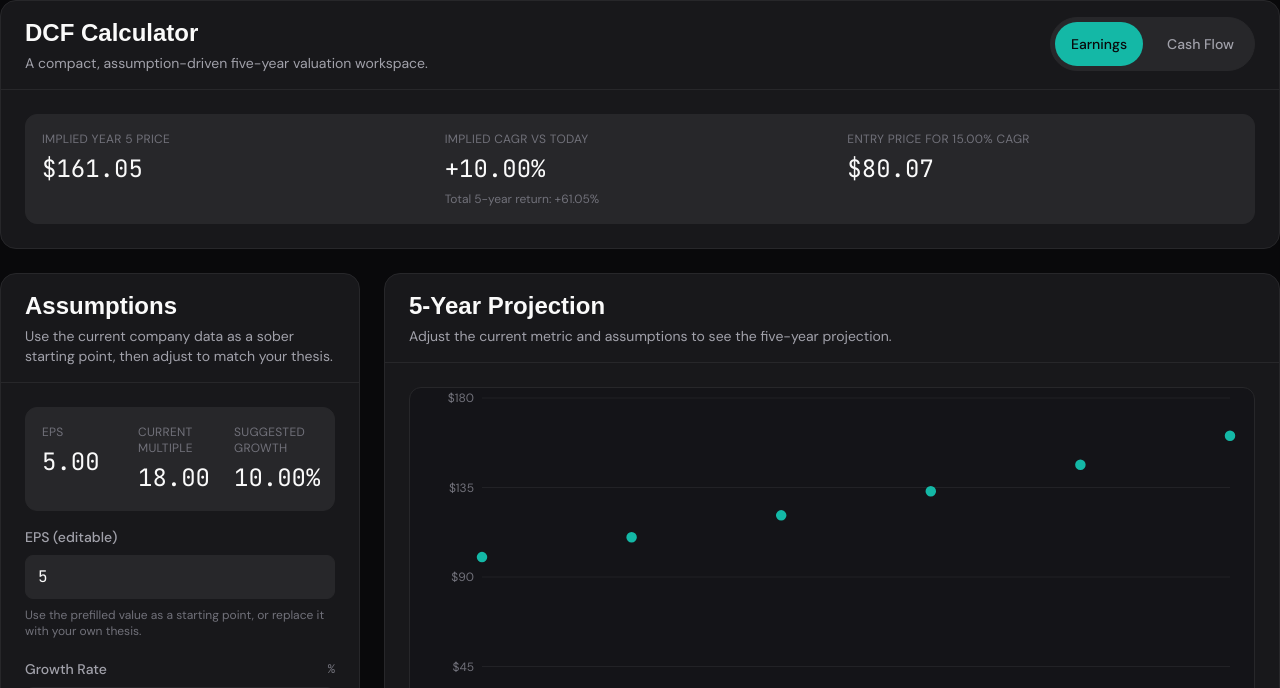
Test: ValuationTab › shows cash-flow mode availability reasons when guardrails block it
The image size is (1280, 688).
Click the button "Cash Flow": (1201, 44) [1151, 22, 1250, 66]
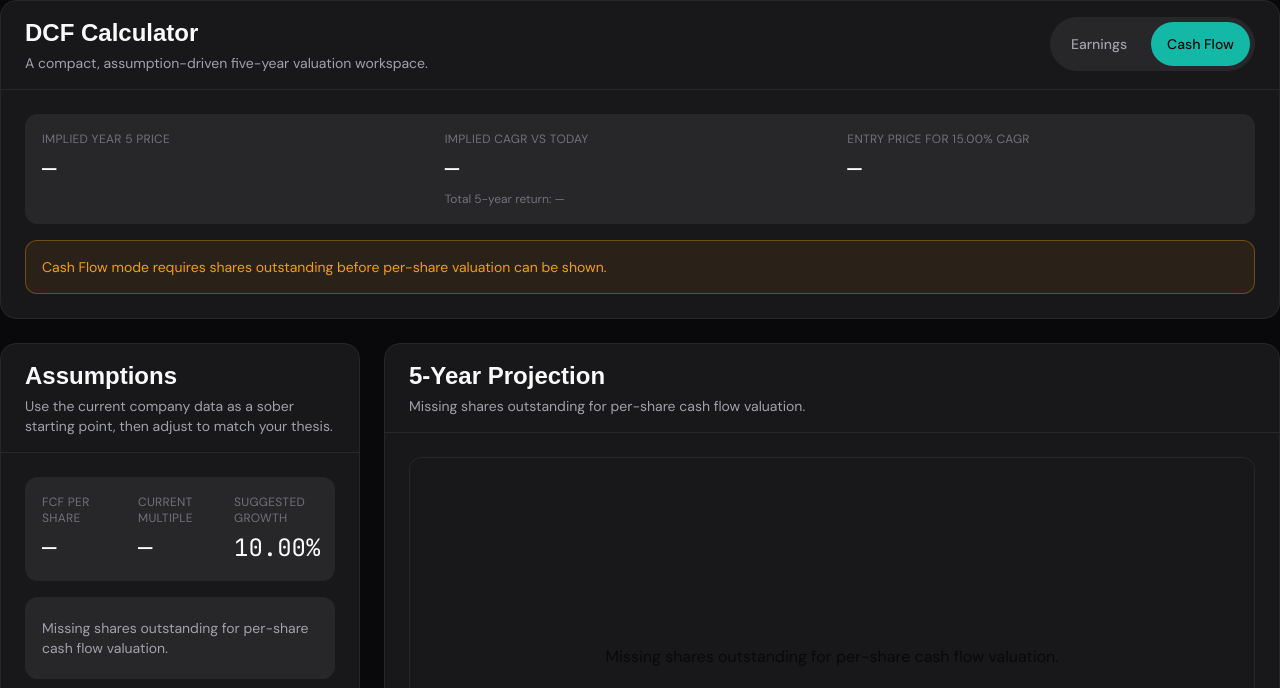
Now the text "Missing shares outstanding for per-share cash flow valuation" below "10.00%" is shown, box [42, 619, 308, 657]
